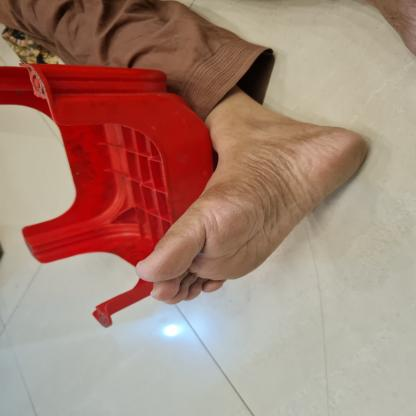leg: (123, 86, 379, 309)
